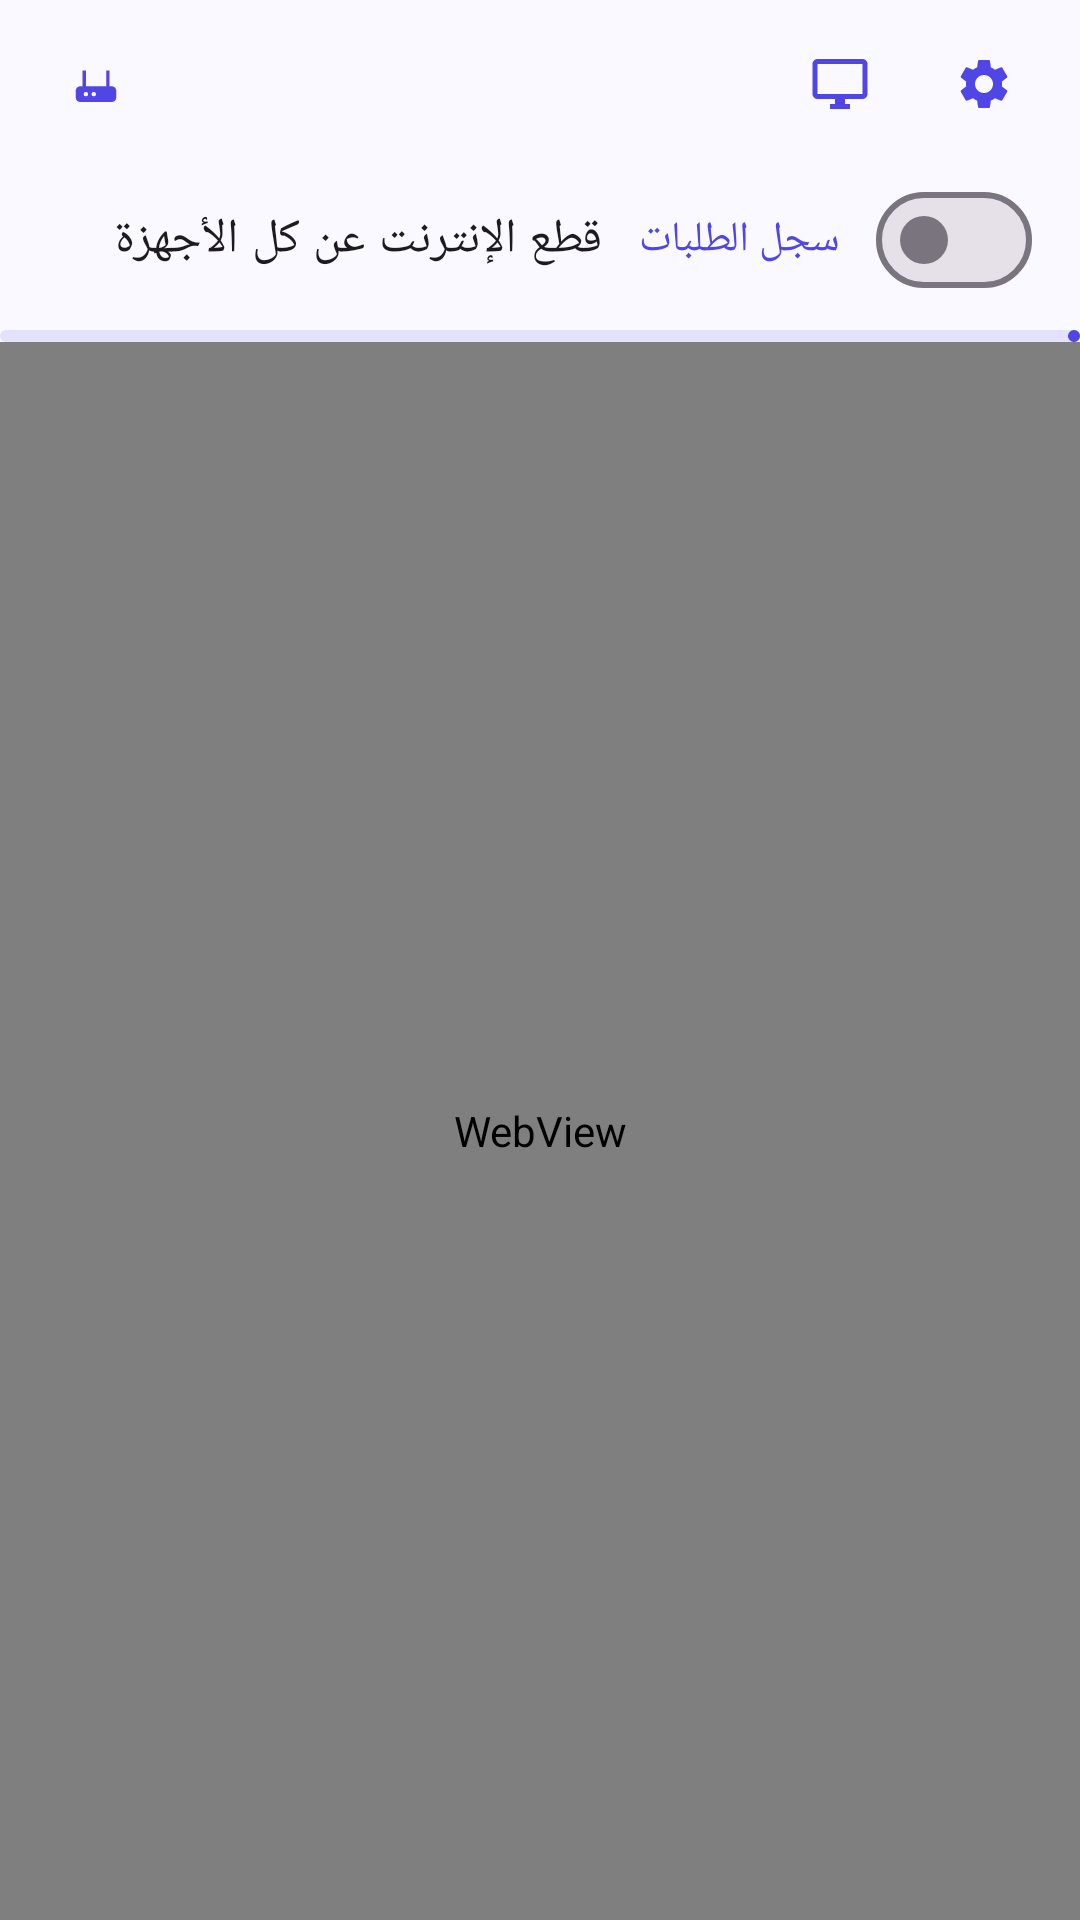

Screen size 1080×1920. Icon name, then its center in pixels as (x,y):
router: (96,86)
الإعدادات: (984,84)
عرض سطح المكتب: (840,84)
